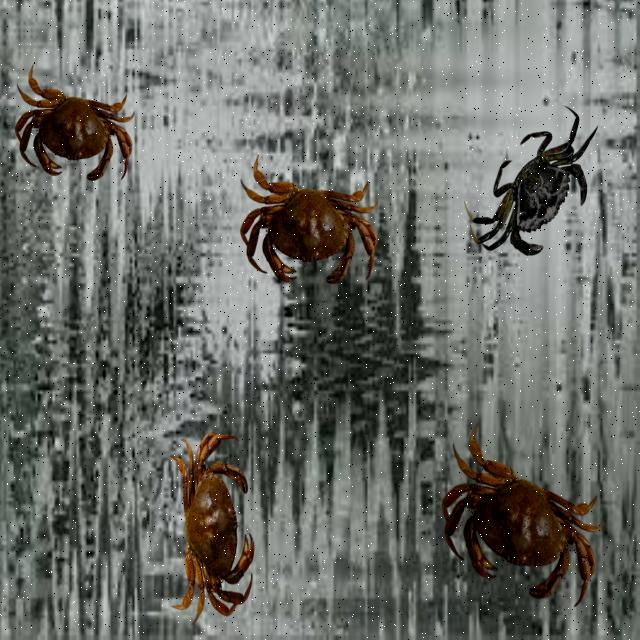European_Green_Crab: (456, 82, 616, 297)
